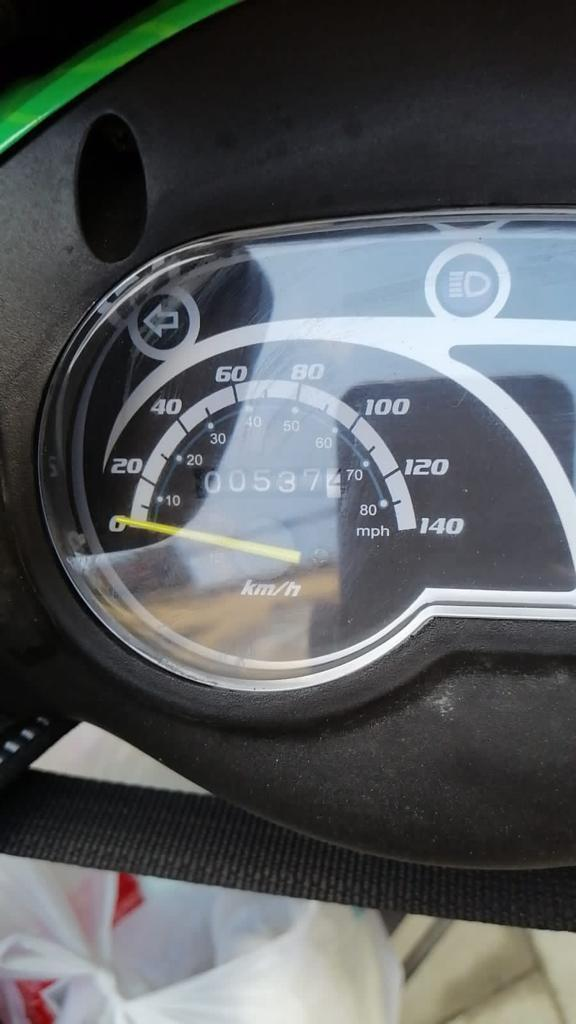0: (203, 468, 222, 496), (226, 468, 246, 493)
3: (276, 468, 297, 494)
4: (326, 466, 344, 493)
5: (251, 467, 272, 494)
7: (301, 466, 322, 493)
odometer: (189, 462, 346, 502)
